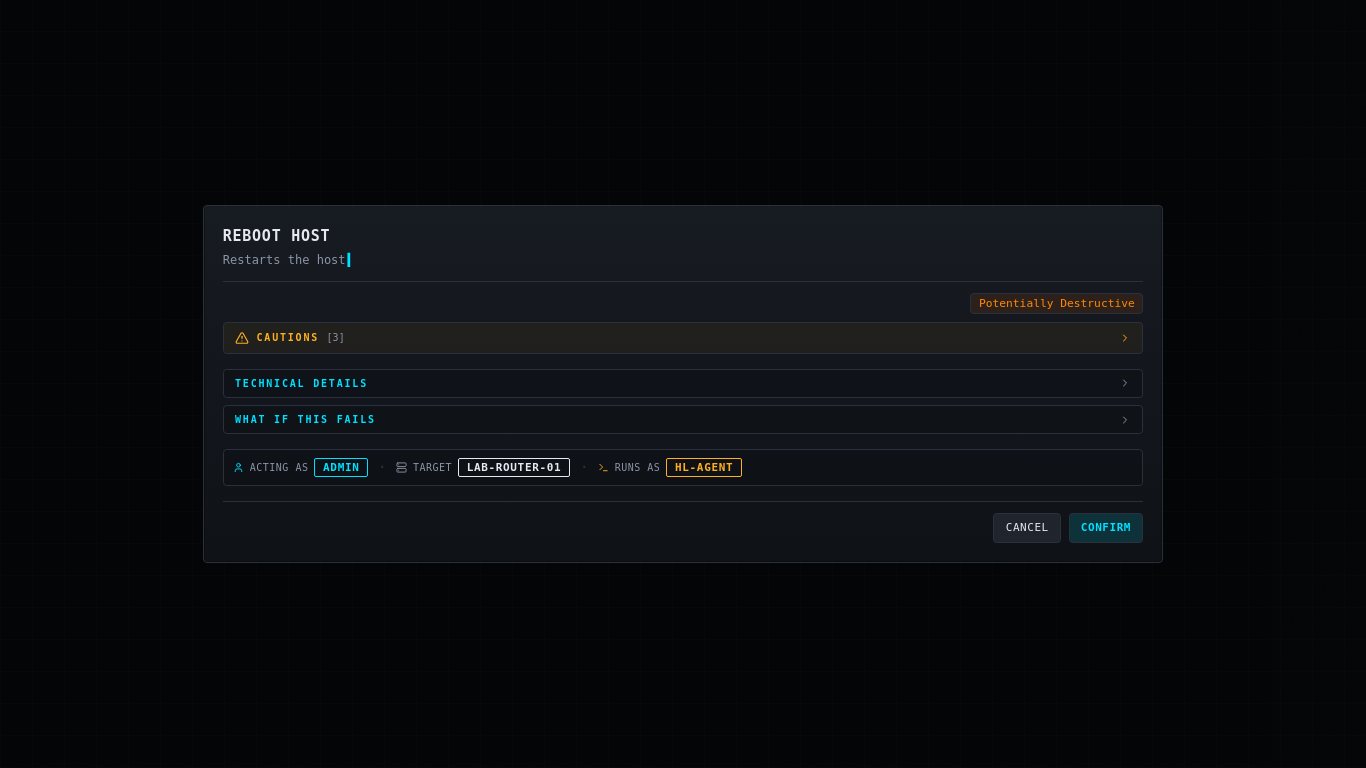
it: ActionConfirmDialog › renders summary and risks for action
Expected: the heading "Reboot host" is shown, [223,227,330,245]
Expected: the text "Restarts the host" is shown, [223,253,346,267]
// Cautions panel is collapsed by default — expand it.
Click the button "Cautions [3]". click: (288, 338)
box: [223,322,1143,354]
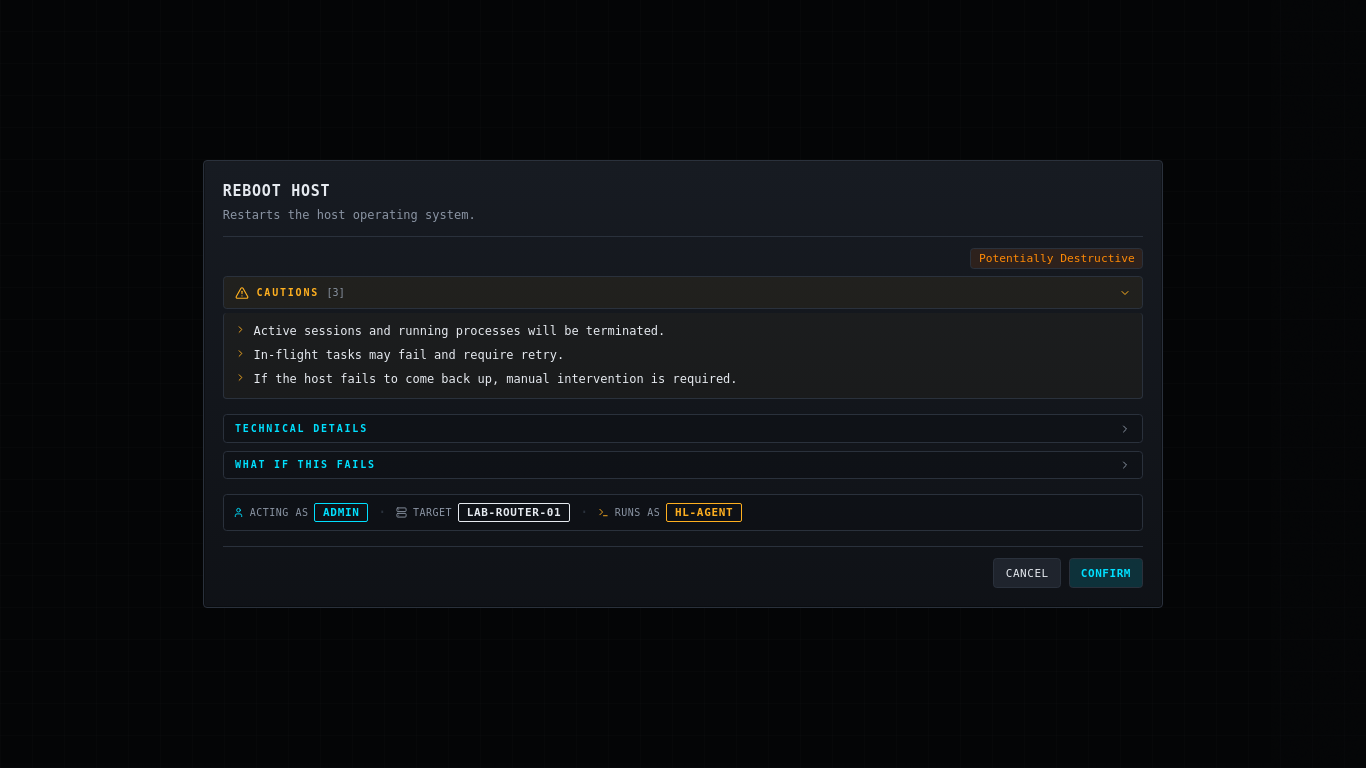
Now the text "Active sessions and running processes will be terminated." is shown, box [254,322,665,340]
